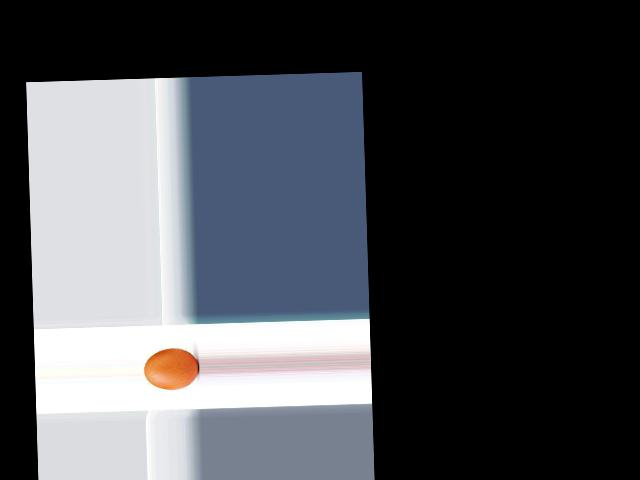egg: (144, 347, 199, 390)
